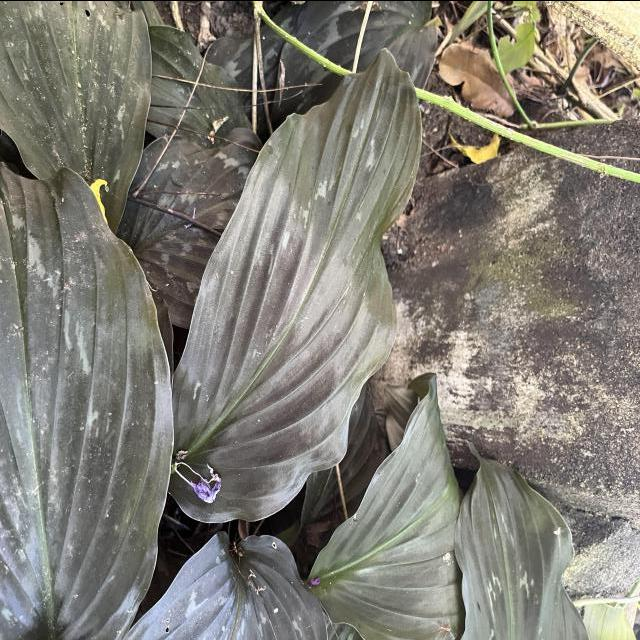Kaempferia galanga linn: (170, 42, 424, 528), (0, 158, 175, 640)
